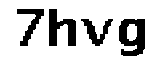7: (13, 4, 46, 50)
g: (114, 15, 149, 60)
h: (47, 5, 80, 52)
v: (80, 16, 113, 48)
